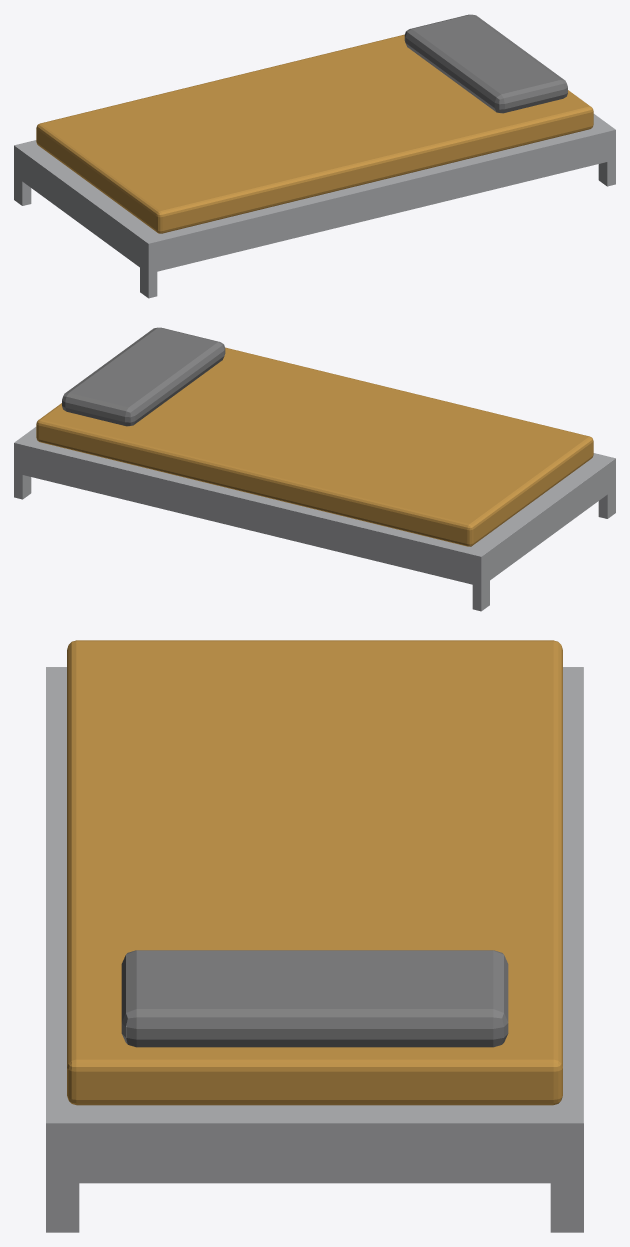
Rendered from 2023-03-22 prison bed.fbx.
3 views of the same model, one above another, from view 1: azimuth 30°, elevation 25°; view 2: azimuth 150°, elevation 25°; view 3: azimuth 270°, elevation 25° (orthographic). The views are drawn at different scales.
Visible parts, largest first — view 1: Cube; view 2: Cube; view 3: Cube.
Part boxes in pixels (<box>): Cube: <box>14,14,615,298</box>; Cube: <box>14,327,615,611</box>; Cube: <box>46,640,583,1232</box>.
Size of the model in its own units: 401 by 78.67 by 200.
